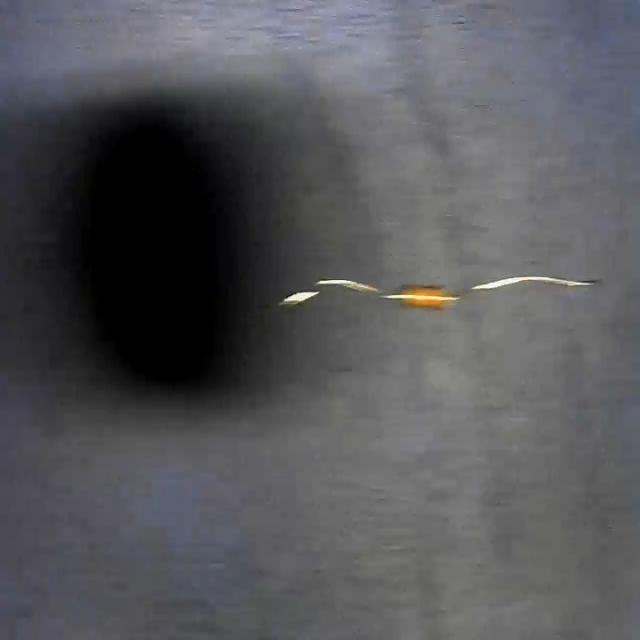resistor: (273, 258, 594, 314)
